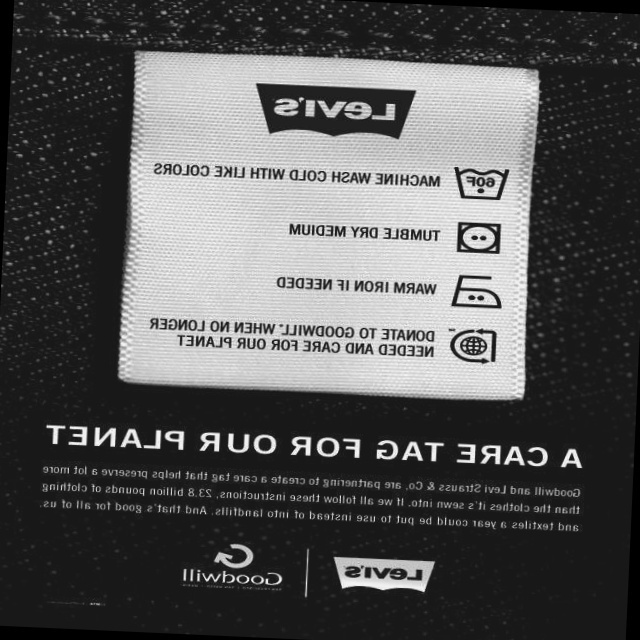30C: (449, 158, 511, 206)
iron_medium: (447, 269, 505, 314)
tumble_dry_medium: (451, 219, 507, 259)
